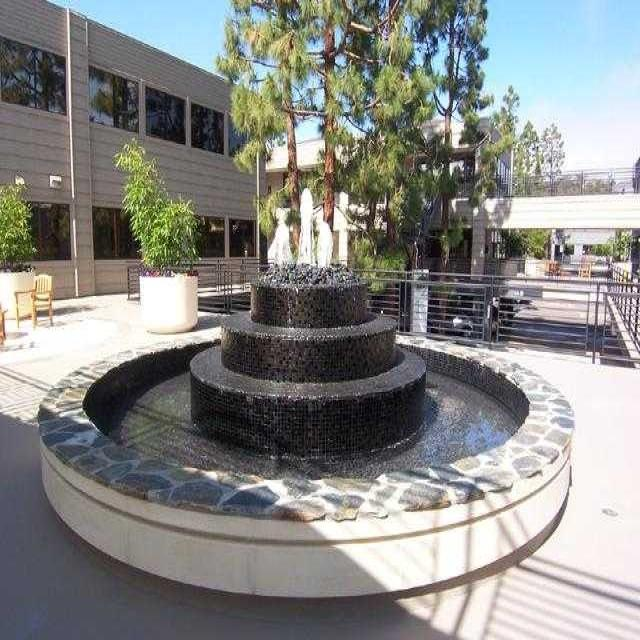Ponds: (35, 333, 579, 522)
